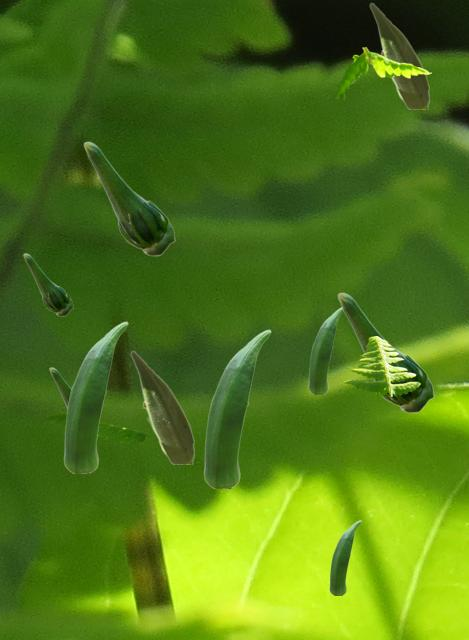okra: (337, 292, 433, 412), (203, 329, 270, 487), (83, 141, 174, 255), (63, 321, 127, 472), (130, 350, 193, 463), (369, 2, 428, 108), (23, 253, 72, 315), (308, 307, 342, 393), (329, 520, 360, 594), (49, 367, 70, 408)
